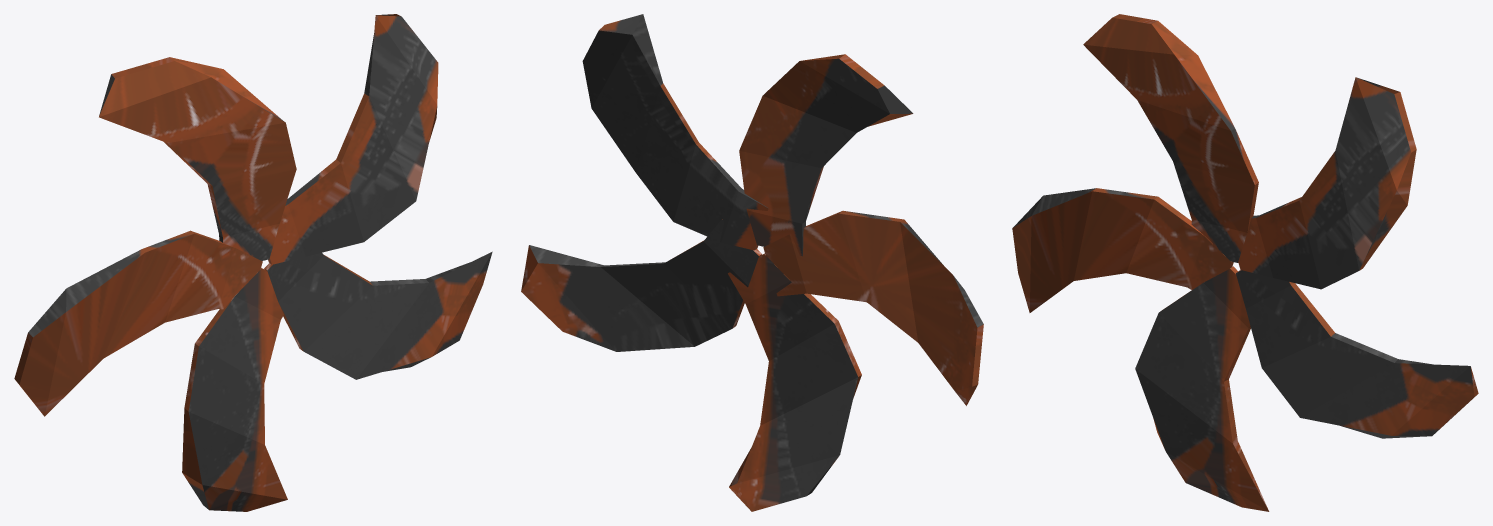
Rendered from Blades.gltf.
The picture shows the model from 3 angles, left to right: view 1: azimuth 30°, elevation 25°; view 2: azimuth 150°, elevation 25°; view 3: azimuth 330°, elevation 25°; orthographic projection. The views are drawn at different scales.
Parts seen in each view (by area): view 1: Ostrza; view 2: Ostrza; view 3: Ostrza.
Boxes of the visible parts, x1,y1,x2,y2 form: Ostrza: (14, 14, 492, 511); Ostrza: (521, 14, 983, 511); Ostrza: (1012, 14, 1478, 511).
Bounding box in the file's own units: 1.64 × 1.61 × 0.1874.
Materials: 1 (1 with a texture image).
